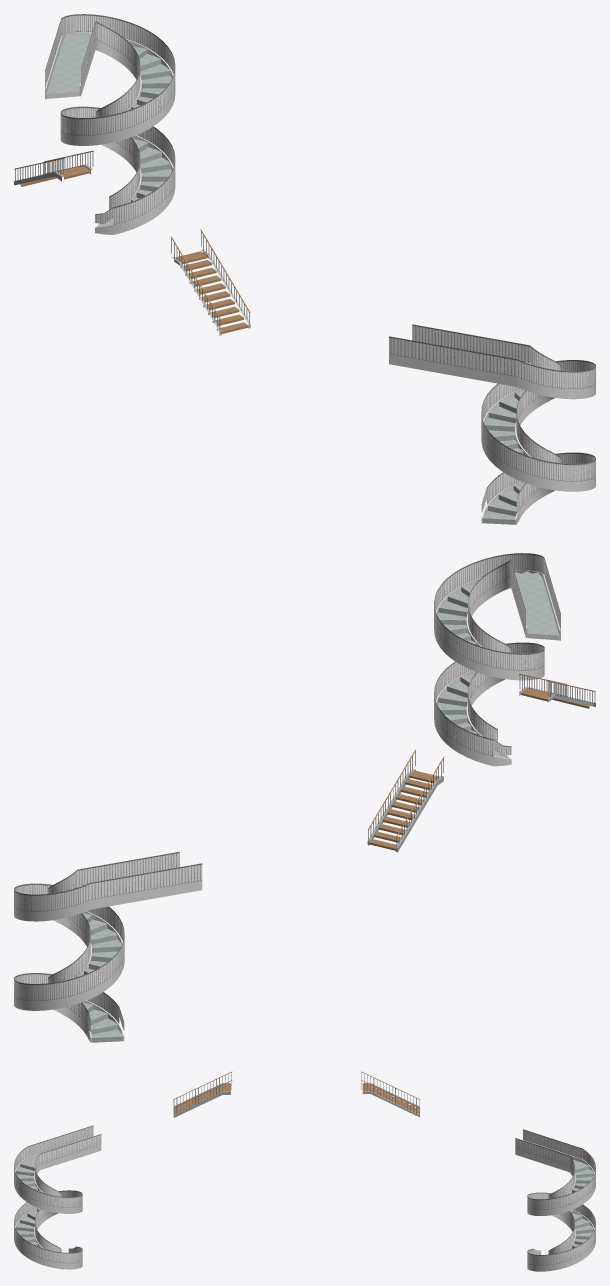
The model's file is JieTi.FBX.
3 renders of one model, top to bottom at view 1: azimuth 30°, elevation 25°; view 2: azimuth 150°, elevation 25°; view 3: azimuth 270°, elevation 25°, orthographic. The views are drawn at different scales.
Parts seen in each view (by area): view 1: SpiralStair005, LuoXuanFuShou04, SpiralStair007, LuoXuanFuShou01, LuoXuanFuShou03, ladder_023, LuoXuanFuShou02, ladder_025; view 2: SpiralStair007, LuoXuanFuShou01, SpiralStair005, LuoXuanFuShou04, LuoXuanFuShou02, ladder_025, LuoXuanFuShou03, ladder_023; view 3: LuoXuanFuShou04, LuoXuanFuShou01, SpiralStair007, SpiralStair005, LuoXuanFuShou03, LuoXuanFuShou02, ladder_023, ladder_025.
Boxes of the visible parts, x1,y1,x2,y2 form: SpiralStair005: (45,31,175,234); LuoXuanFuShou04: (389,336,595,512); SpiralStair007: (389,354,595,524); LuoXuanFuShou01: (45,14,175,224); LuoXuanFuShou03: (412,324,560,513); ladder_023: (171,229,250,335); LuoXuanFuShou02: (81,21,140,209); ladder_025: (14,150,93,186); SpiralStair007: (434,570,560,766); LuoXuanFuShou01: (14,863,202,1030); SpiralStair005: (14,880,202,1042); LuoXuanFuShou04: (434,553,560,756); LuoXuanFuShou02: (48,851,179,1032); ladder_025: (367,749,444,852); LuoXuanFuShou03: (468,559,525,741); ladder_023: (519,673,595,708); LuoXuanFuShou04: (14,1125,93,1263); LuoXuanFuShou01: (523,1129,595,1265); SpiralStair007: (14,1136,101,1269); SpiralStair005: (515,1140,595,1271); LuoXuanFuShou03: (35,1134,101,1252); LuoXuanFuShou02: (515,1138,574,1254); ladder_023: (173,1071,232,1117); ladder_025: (361,1071,420,1117).
Bounding box in the file's own units: 1359 × 1096 × 4201.
